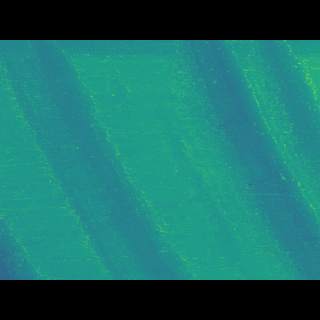Loch: (0, 68, 209, 250), (170, 69, 320, 250)
